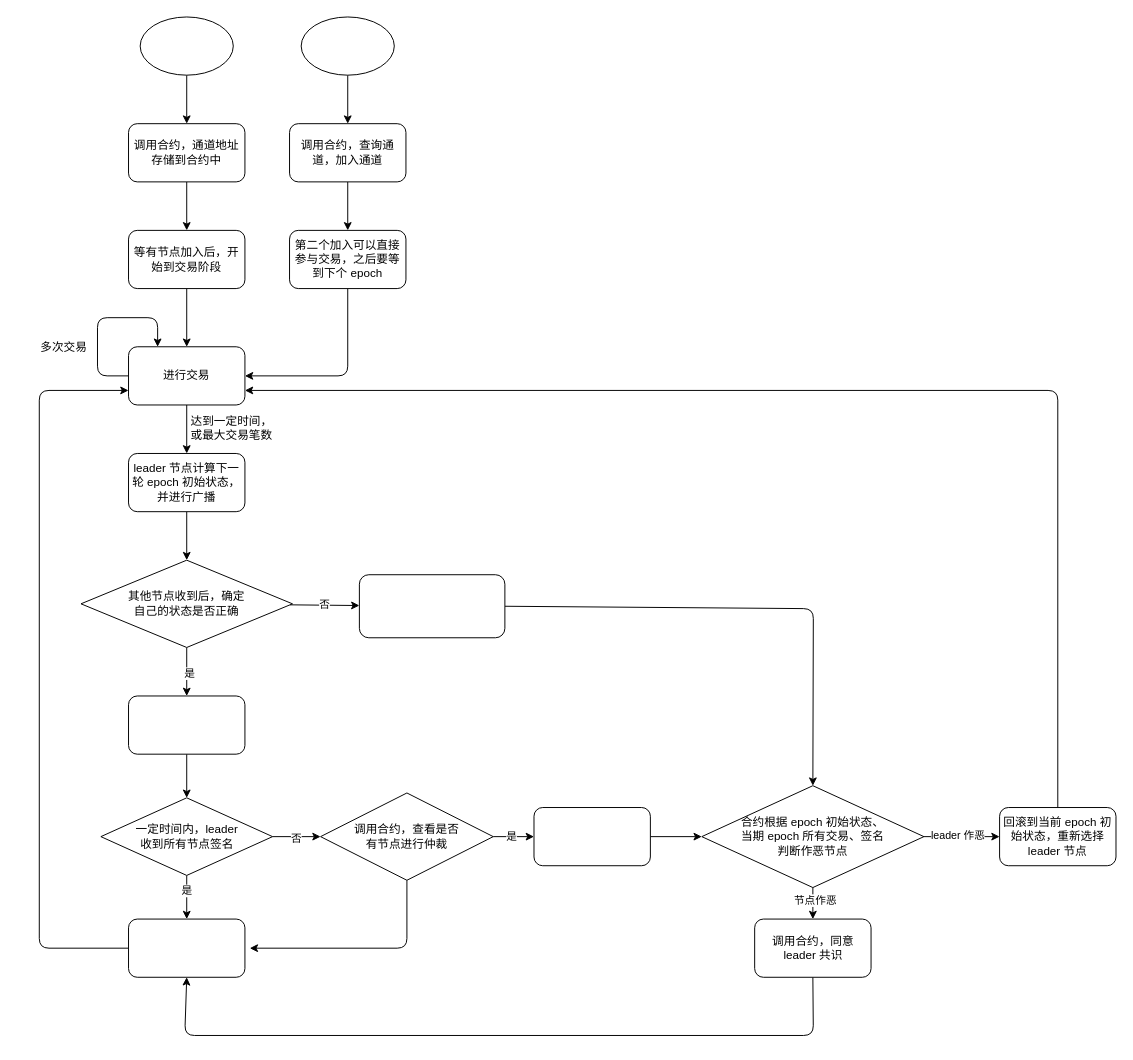
The diagram is 1133 pixels wide and 1060 high, and some of its shapes have lost their labels. The shapes that lost their labels are listed below. From the top down, each one's centre as x and y in pixels, then its label:
At [186,45]: "创建通道".
At [347,45]: "加入通道".
At [431,606]: "调用合约进行仲裁， 提交当前 epoch 初始 状态，和本周期和自己相关交易".
At [186,724]: "进行签名，并返回给 leader".
At [591,836]: "提交当前 epoch 初始状态，以及当前 epoch 和该节点相关的交易".
At [186,947]: "leader 节点广播 通知到下一个 epoch".
